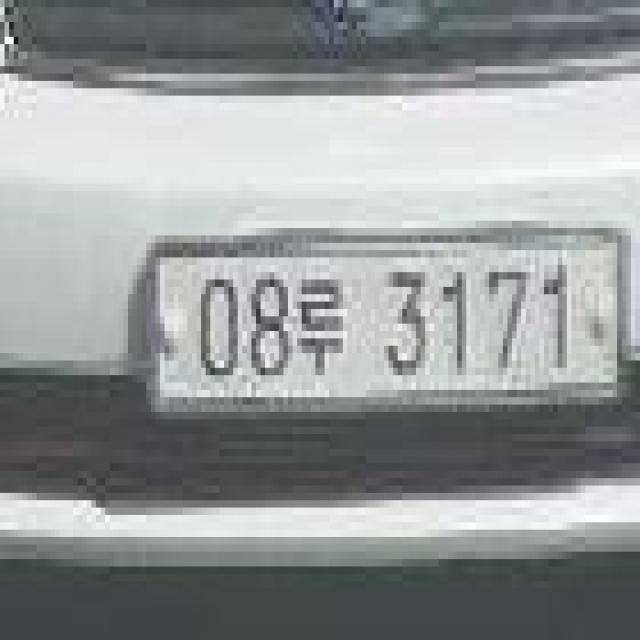illegal_plate: (150, 222, 623, 423)
